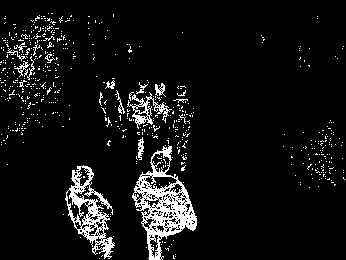person: (139, 154, 196, 260), (71, 161, 123, 258), (173, 79, 199, 172), (96, 75, 127, 147), (131, 77, 148, 166), (151, 78, 168, 149)
